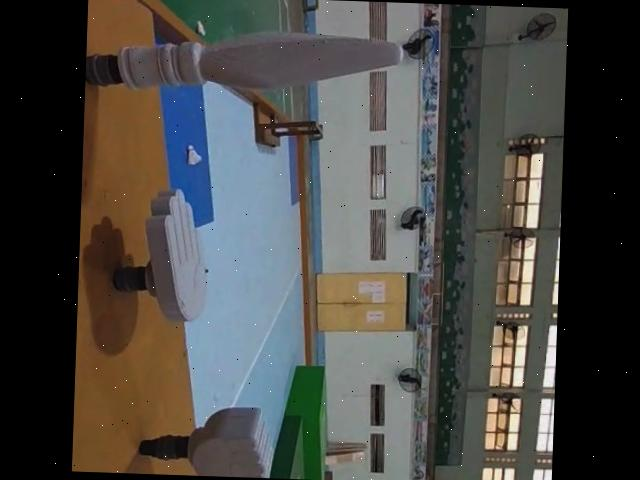Fist: (140, 404, 276, 479)
Hand: (105, 192, 216, 330)
Sph: (85, 20, 409, 103)
